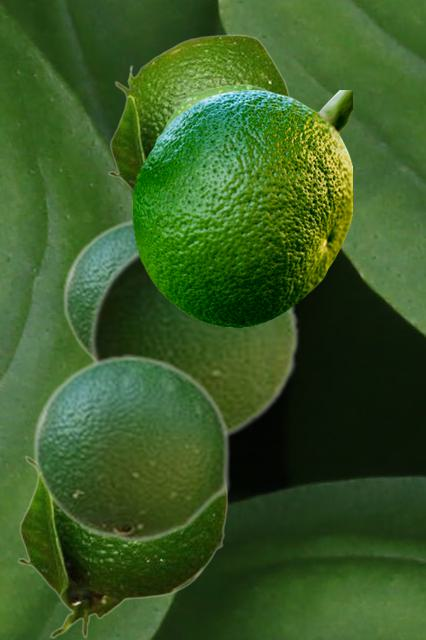dalandan: (132, 90, 351, 326), (88, 248, 299, 440), (16, 455, 227, 638), (32, 354, 230, 543), (107, 34, 289, 190), (62, 218, 135, 359), (159, 83, 274, 134)
